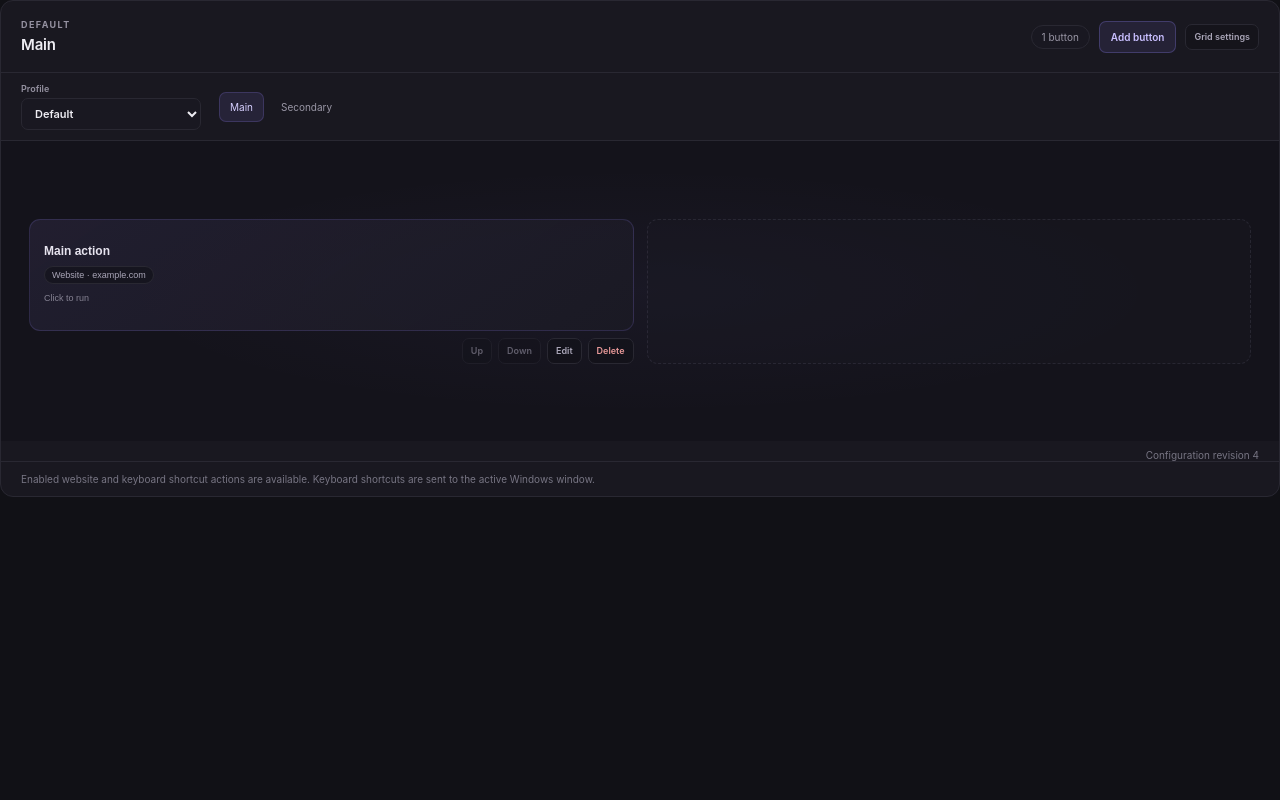
ConfigurationButtonGrid › edits buttons on a non-default page without changing other pages
Click the button "Secondary" at (307, 106), box [270,92,343,122]
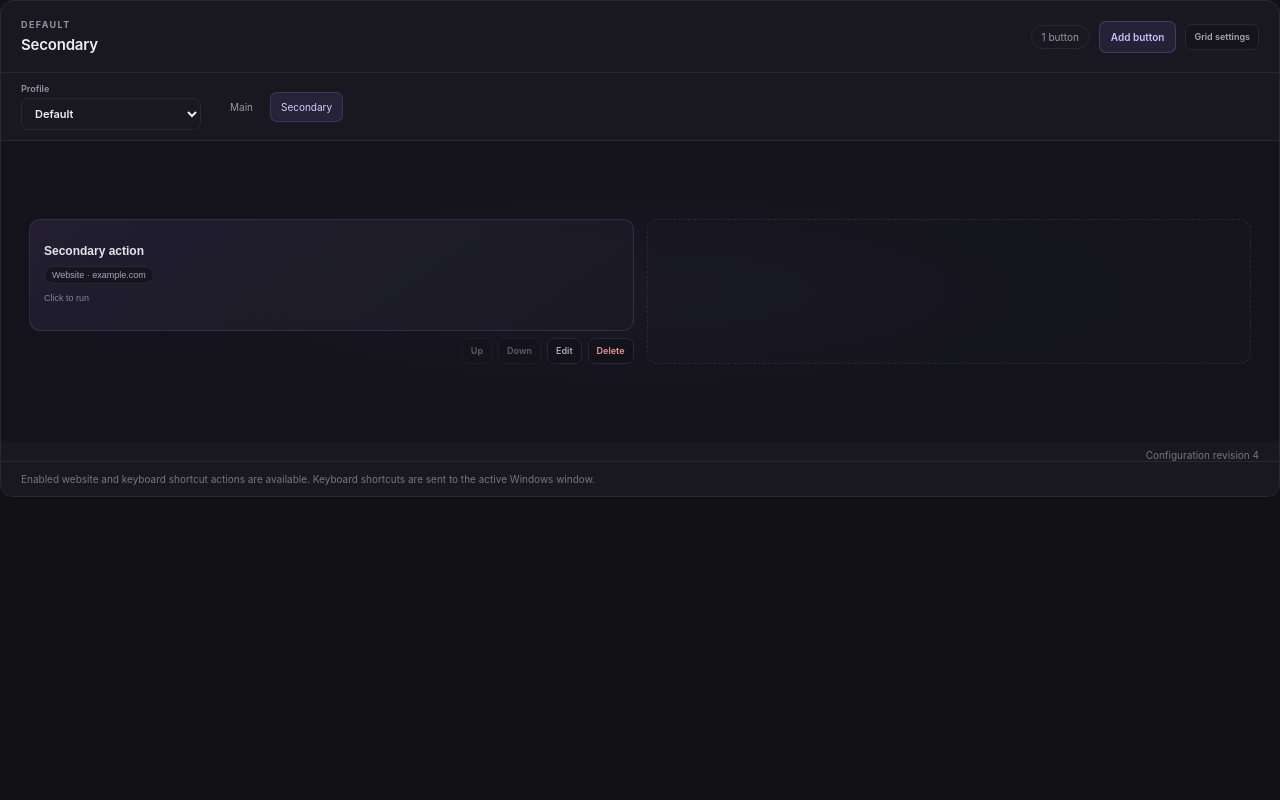
Click the button with aria-label "Edit Secondary action" at (564, 350), box [547,338,582,364]
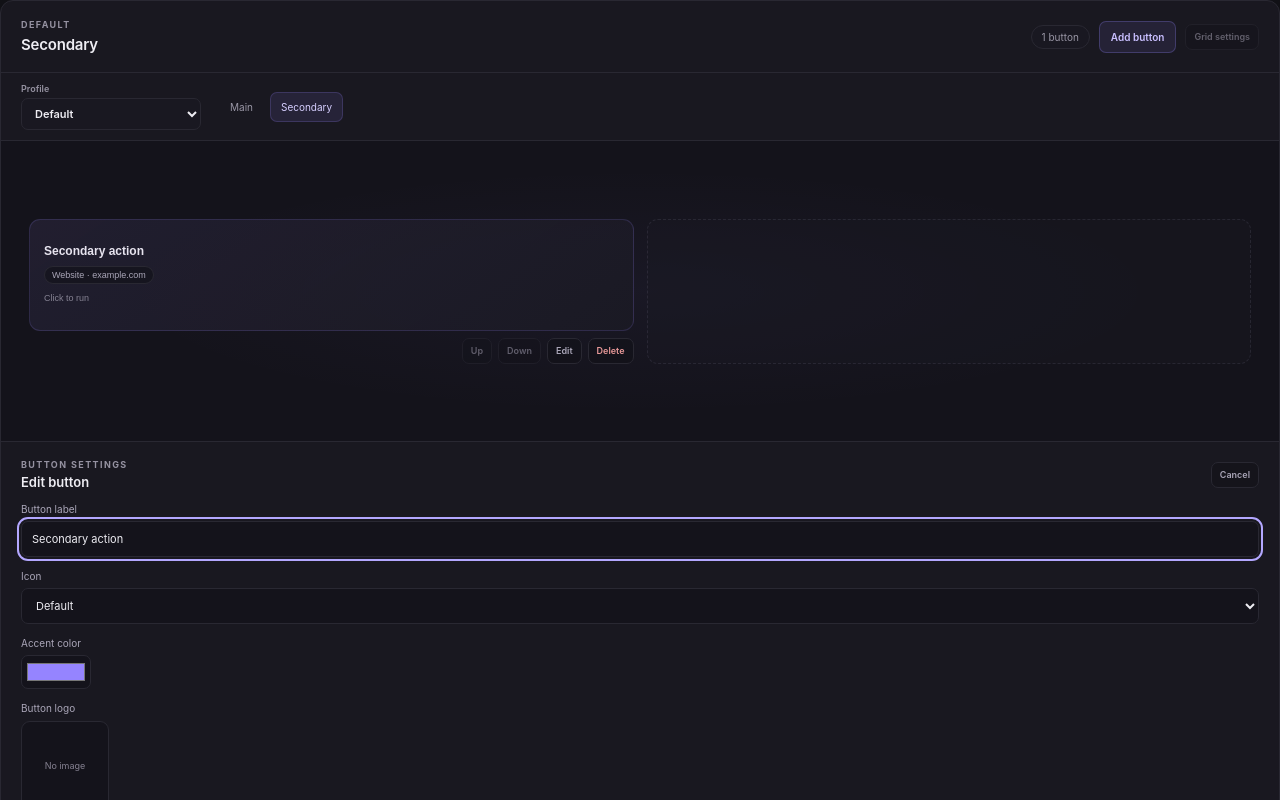
Replace the text in the field labelled "Button label" with "Updated secondary" at (640, 539), box [21,521,1259,557]
(page scrolled)
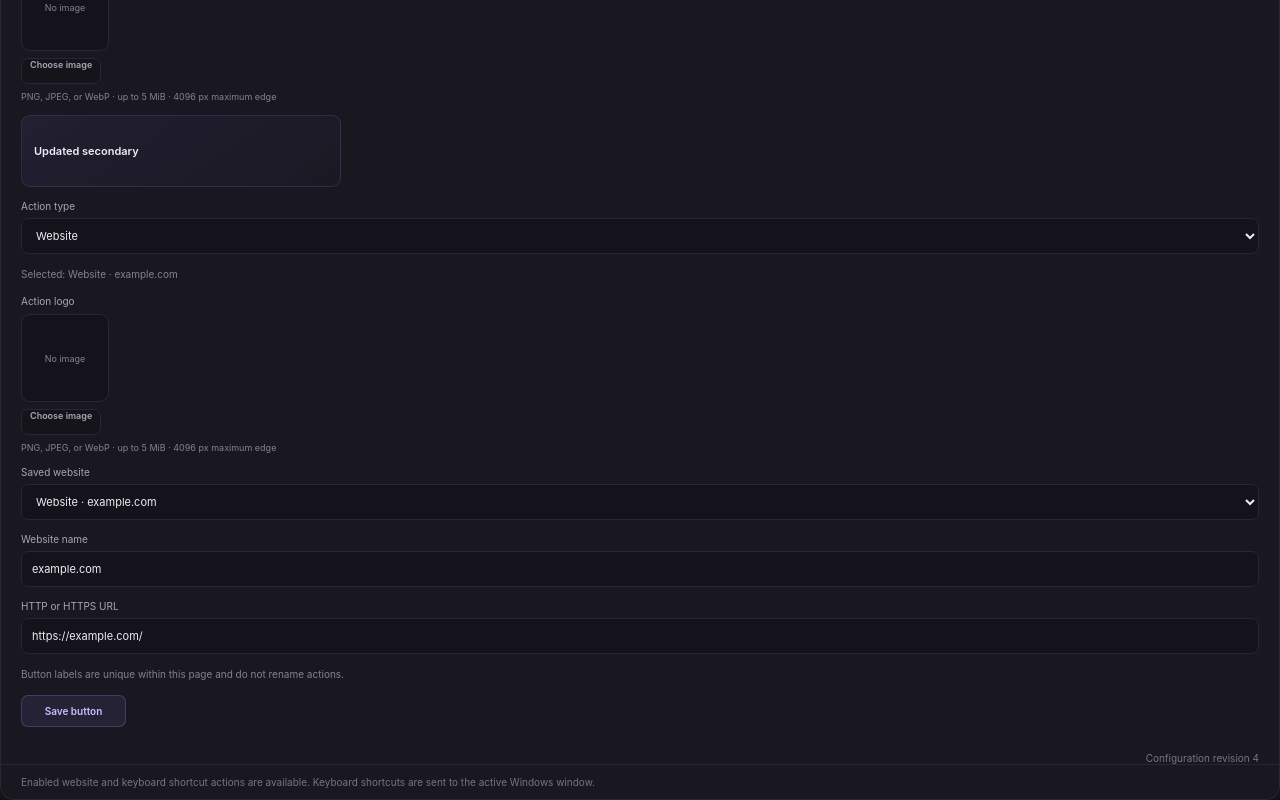
Click the button "Save button" at (74, 711), box [21,695,126,727]
(page scrolled)
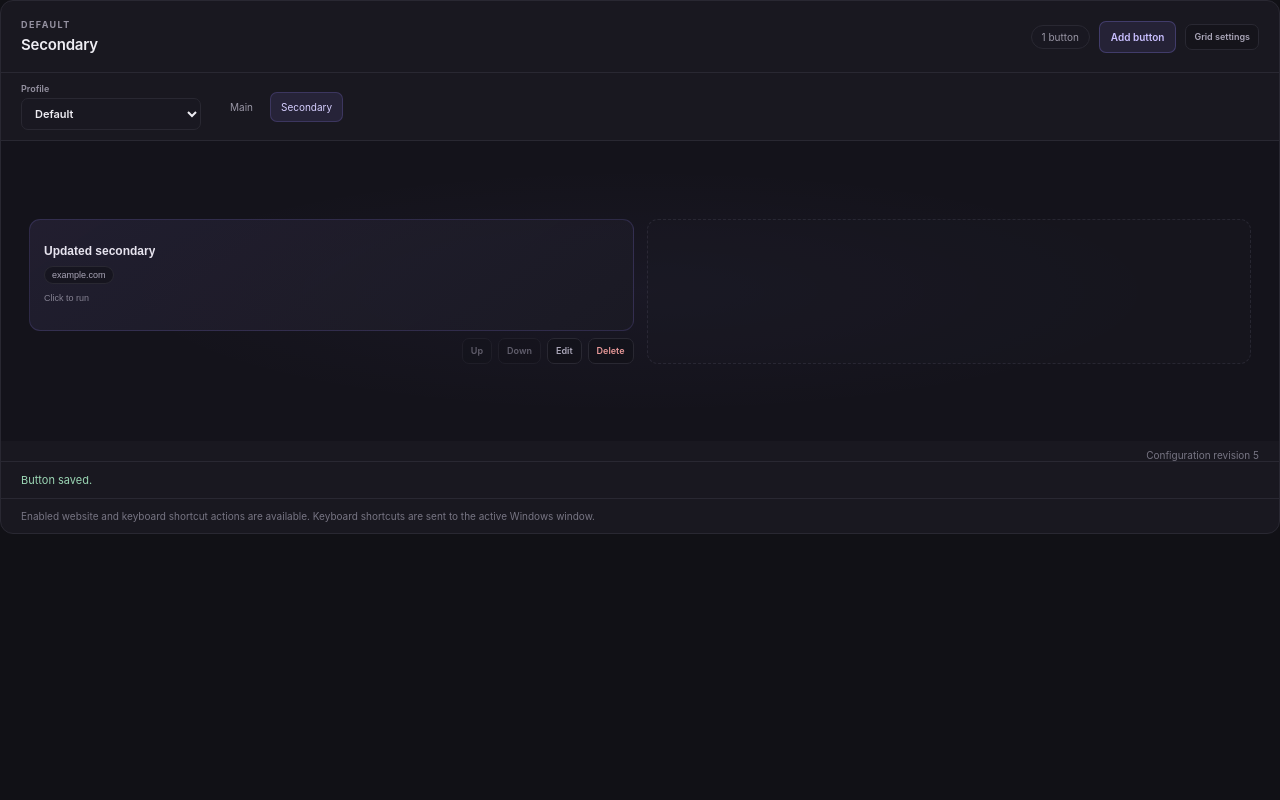
Expected: the text "Button saved." is shown, [1,461,1279,498]
